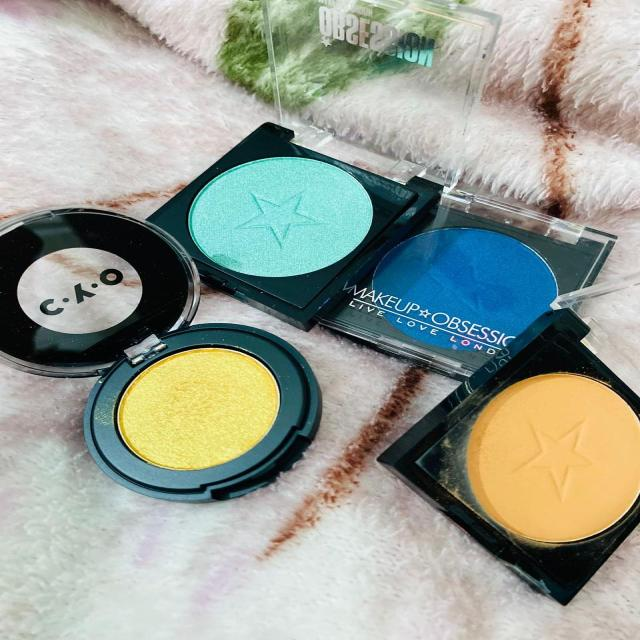eye shade: (174, 144, 386, 289), (366, 201, 558, 358)
powder: (445, 360, 640, 555), (94, 337, 297, 488)
